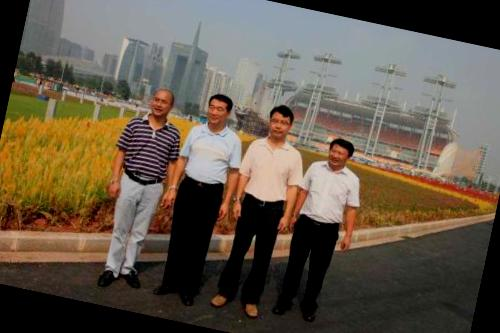no_helmet: (262, 100, 301, 146), (198, 88, 238, 130), (143, 82, 180, 124), (321, 134, 359, 172)
